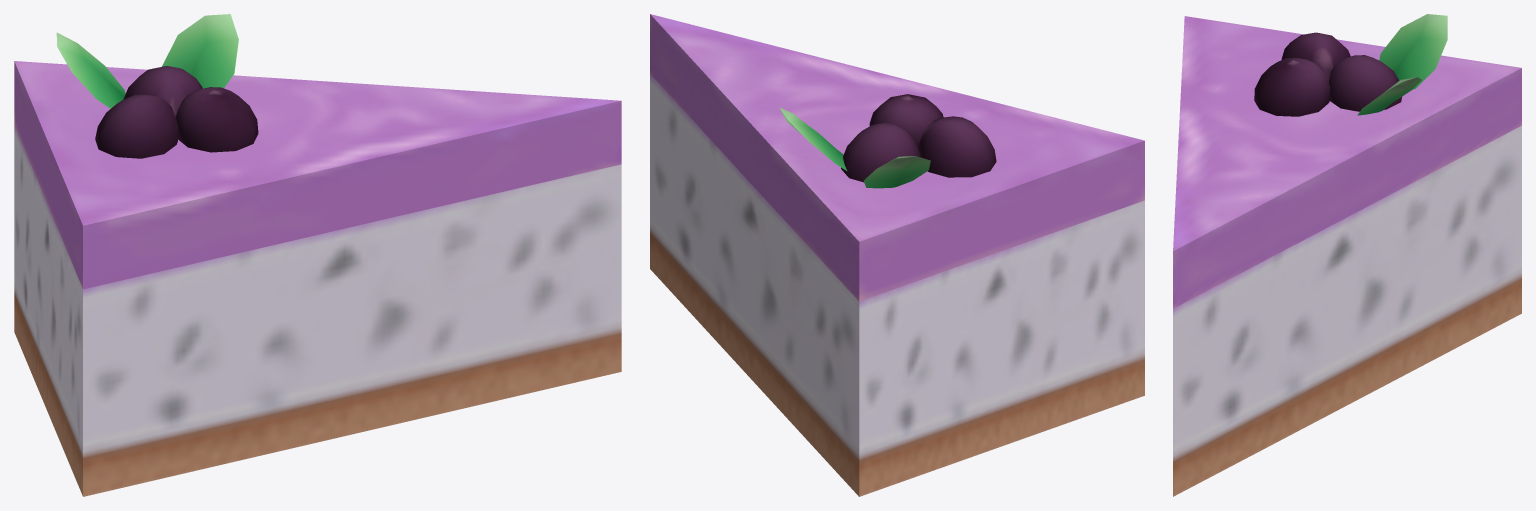
Rendered from Doll_OB_Cake_006.fbx.
3 views of the same model, side by side, from view 1: azimuth 30°, elevation 25°; view 2: azimuth 150°, elevation 25°; view 3: azimuth 270°, elevation 25° (orthographic). The views are drawn at different scales.
Visible parts, largest first — view 1: Doll_OB_Cake_006; view 2: Doll_OB_Cake_006; view 3: Doll_OB_Cake_006.
Part boxes in pixels (x1=…): Doll_OB_Cake_006: x1=14, y1=14, x2=621, y2=496; Doll_OB_Cake_006: x1=650, y1=14, x2=1144, y2=496; Doll_OB_Cake_006: x1=1173, y1=14, x2=1521, y2=496.
Size of the model in its own units: 1.4 by 0.8259 by 0.8753.
1 material, 1 textured.
